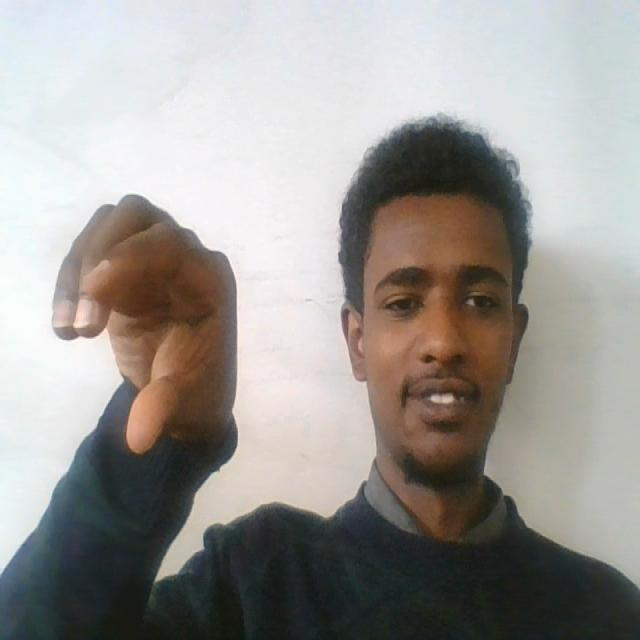no: (44, 176, 250, 466)
